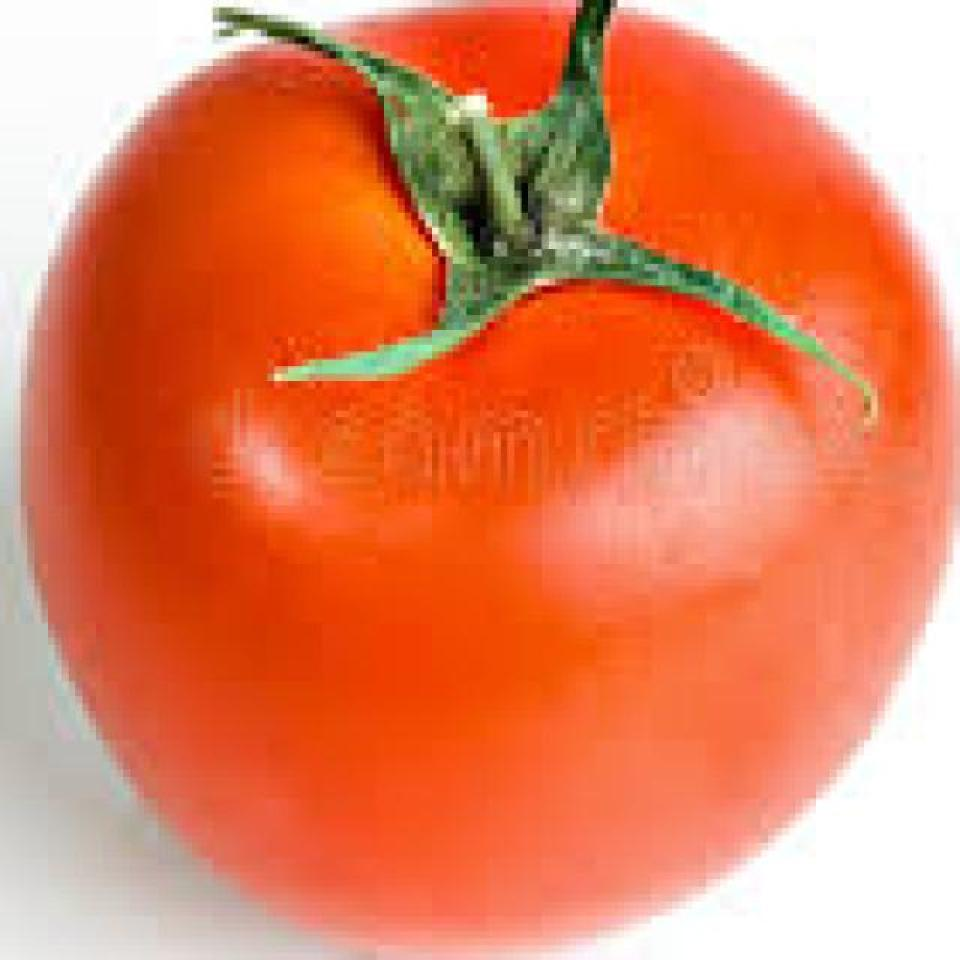Healthy: (26, 0, 960, 942)
